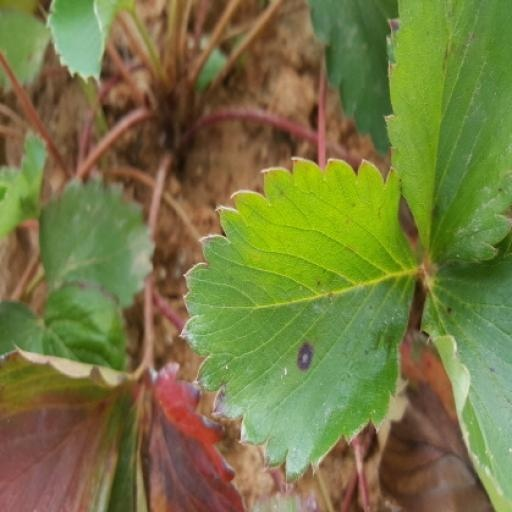Leaf Spot: (177, 155, 421, 486), (384, 0, 511, 274), (421, 230, 511, 511)
